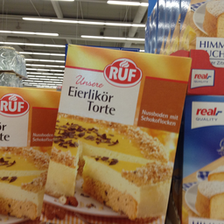cake: (37, 43, 192, 221), (1, 85, 61, 222)
